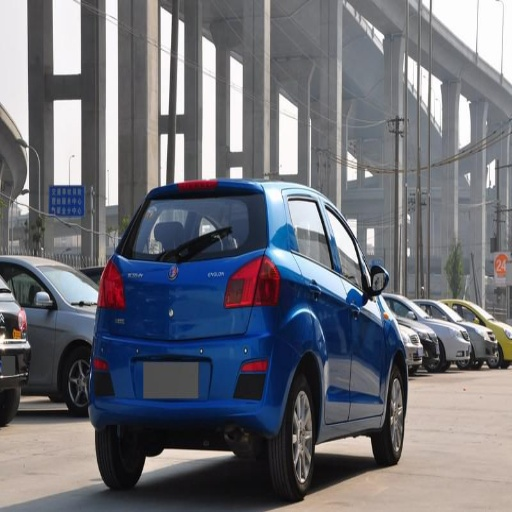back_bumper: (91, 306, 294, 434)
back_right_door: (284, 194, 351, 423)
trunk: (120, 255, 259, 365)
